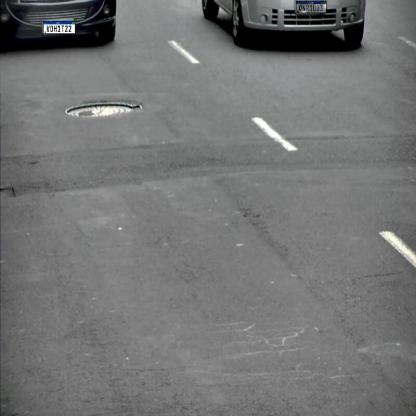PlacaM: (43, 21, 76, 34), (296, 1, 326, 13)
